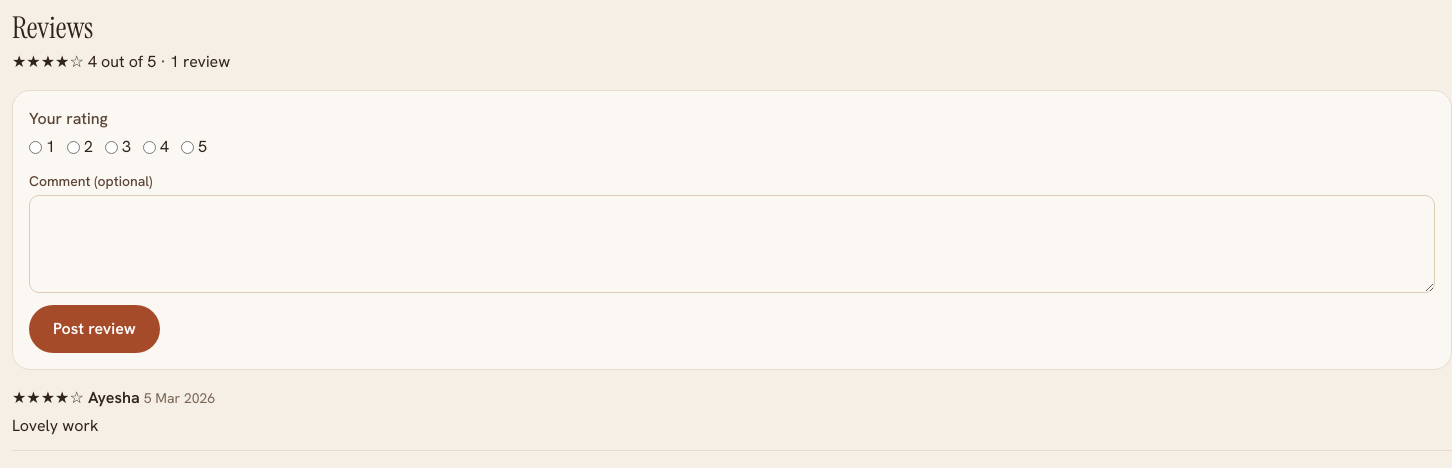
lets an eligible customer post a review and reloads the list
Expected: the form named "Write a review" is shown, [12, 90, 1451, 370]
Click the radio button labelled "5" at point(187, 147), box [181, 140, 194, 154]
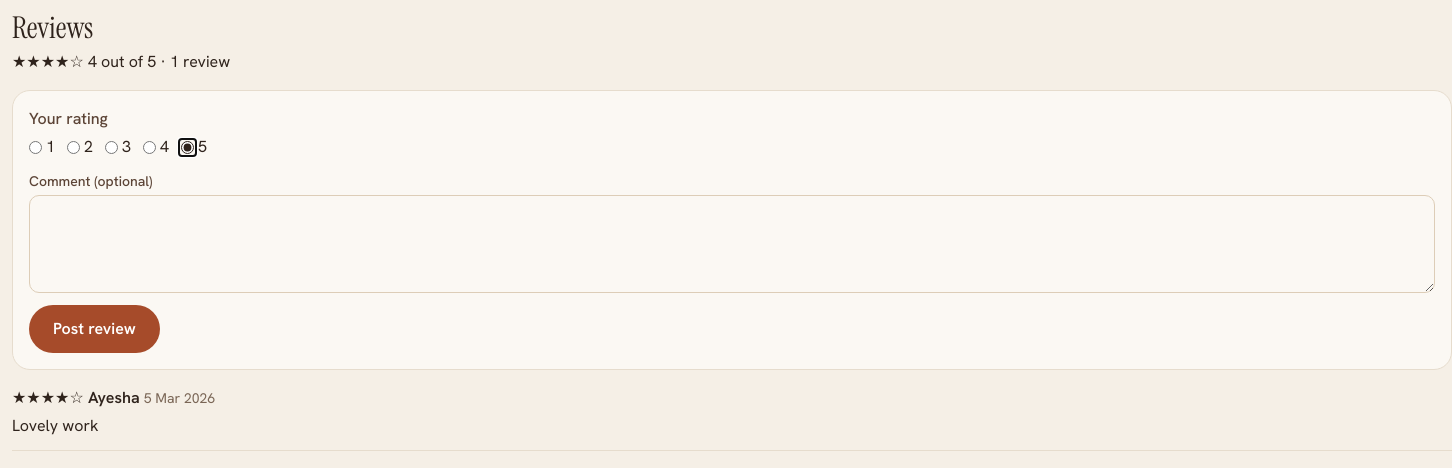
Type "  Great  " into the text box labelled "Comment (optional)" at point(732, 244), box [29, 195, 1435, 293]
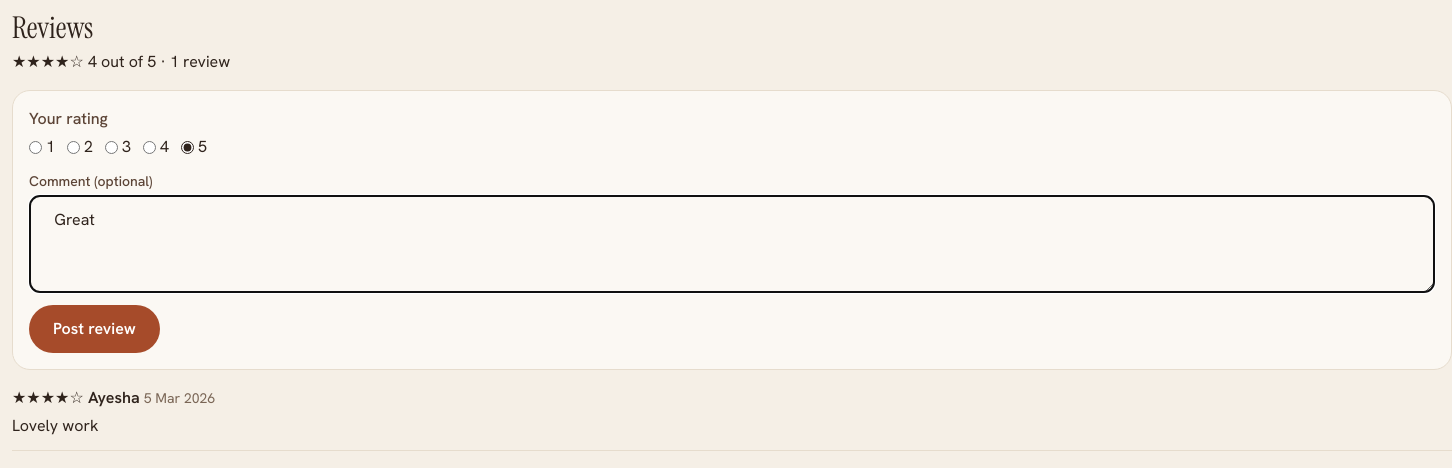
Click the button "Post review" at point(94, 329), box [29, 305, 160, 353]
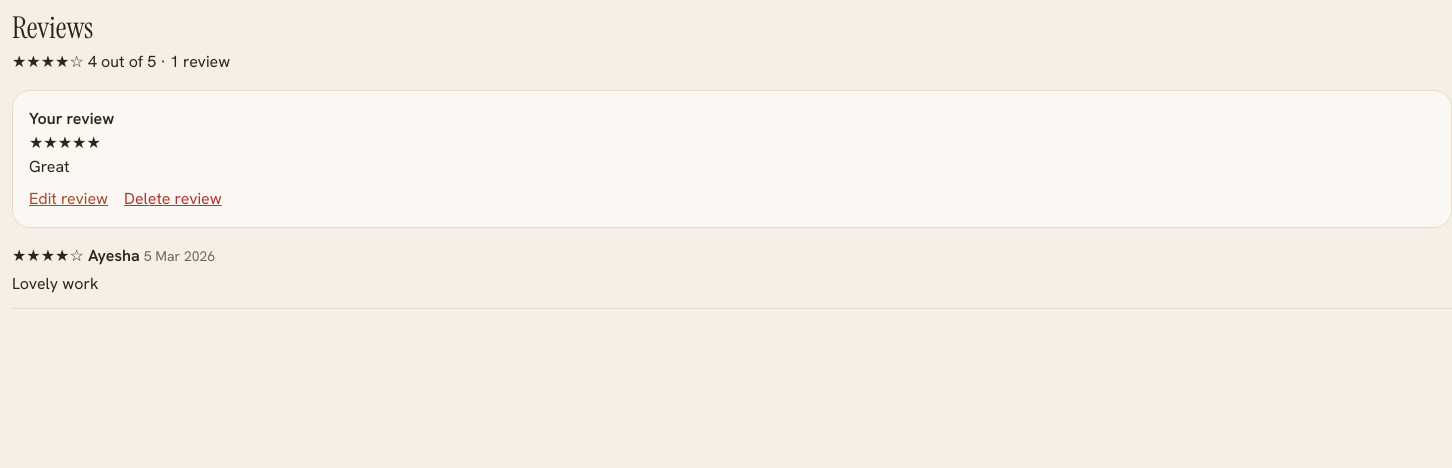
Expected: the text "Your review" is shown, [29, 108, 114, 129]
